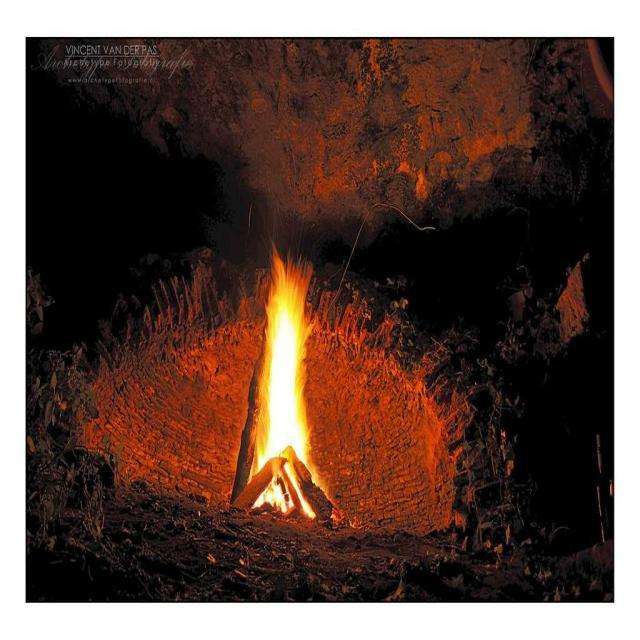Fire: (234, 230, 335, 516)
